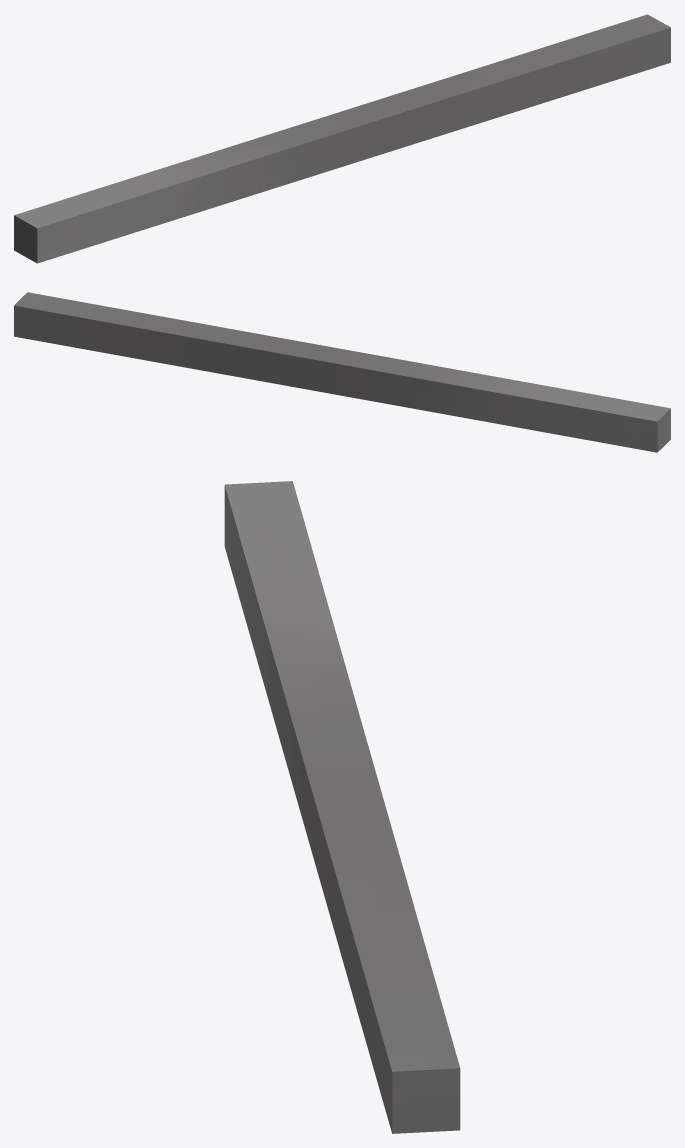
Rendered from frame__rail_0.glb.
3 views of the same model, one above another, from view 1: azimuth 30°, elevation 25°; view 2: azimuth 150°, elevation 25°; view 3: azimuth 270°, elevation 25° (orthographic). The views are drawn at different scales.
Parts seen in each view (by area): view 1: world; view 2: world; view 3: world.
Boxes of the visible parts, bbox=[...] form: world: bbox=[14, 14, 670, 263]; world: bbox=[14, 292, 670, 452]; world: bbox=[224, 481, 460, 1133].
Size of the model in its own units: 1.02 by 0.05 by 0.1717.
1 material, 1 textured.
